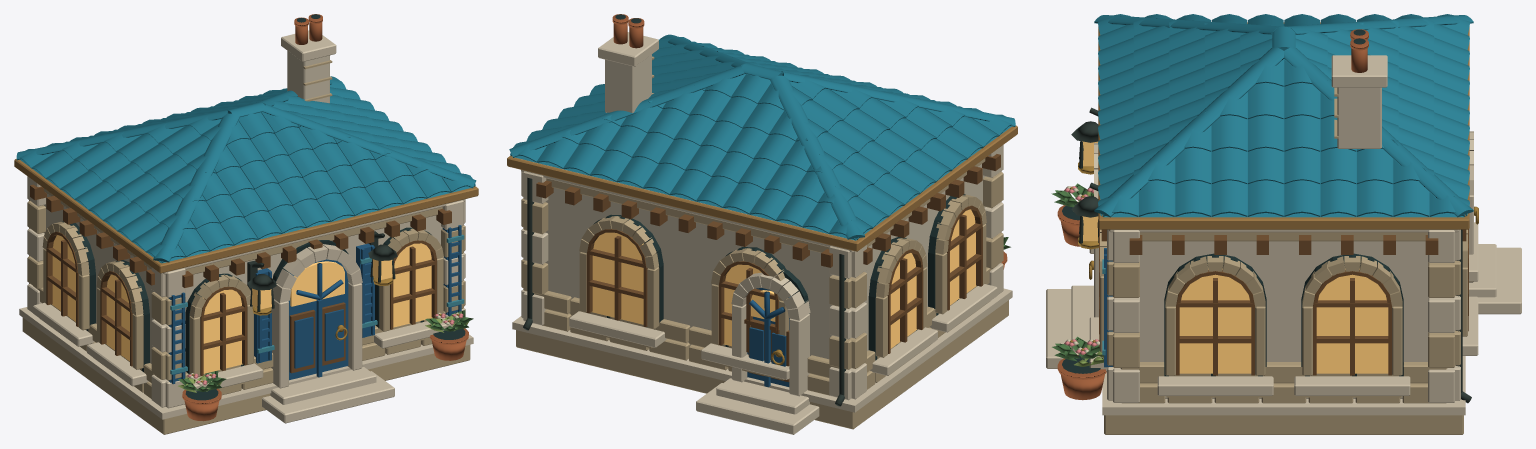
3 renders of one model, left to right at view 1: azimuth 30°, elevation 25°; view 2: azimuth 150°, elevation 25°; view 3: azimuth 270°, elevation 25°, orthographic. The views are drawn at different scales.
Visible parts, largest first — view 1: harbor_villa_1_geometry, harbor_villa_1_geometry ceramic; view 2: harbor_villa_1_geometry, harbor_villa_1_geometry ceramic; view 3: harbor_villa_1_geometry, harbor_villa_1_geometry ceramic.
Part boxes in pixels (left/top/right/bottom): harbor_villa_1_geometry: left=14, top=14, right=478, bottom=434; harbor_villa_1_geometry ceramic: left=16, top=76, right=476, bottom=374; harbor_villa_1_geometry: left=507, top=14, right=1017, bottom=434; harbor_villa_1_geometry ceramic: left=509, top=34, right=1015, bottom=240; harbor_villa_1_geometry: left=1046, top=22, right=1521, bottom=434; harbor_villa_1_geometry ceramic: left=1094, top=14, right=1473, bottom=355.
Size of the model in its own units: 0.9433 by 0.78 by 0.9319.
